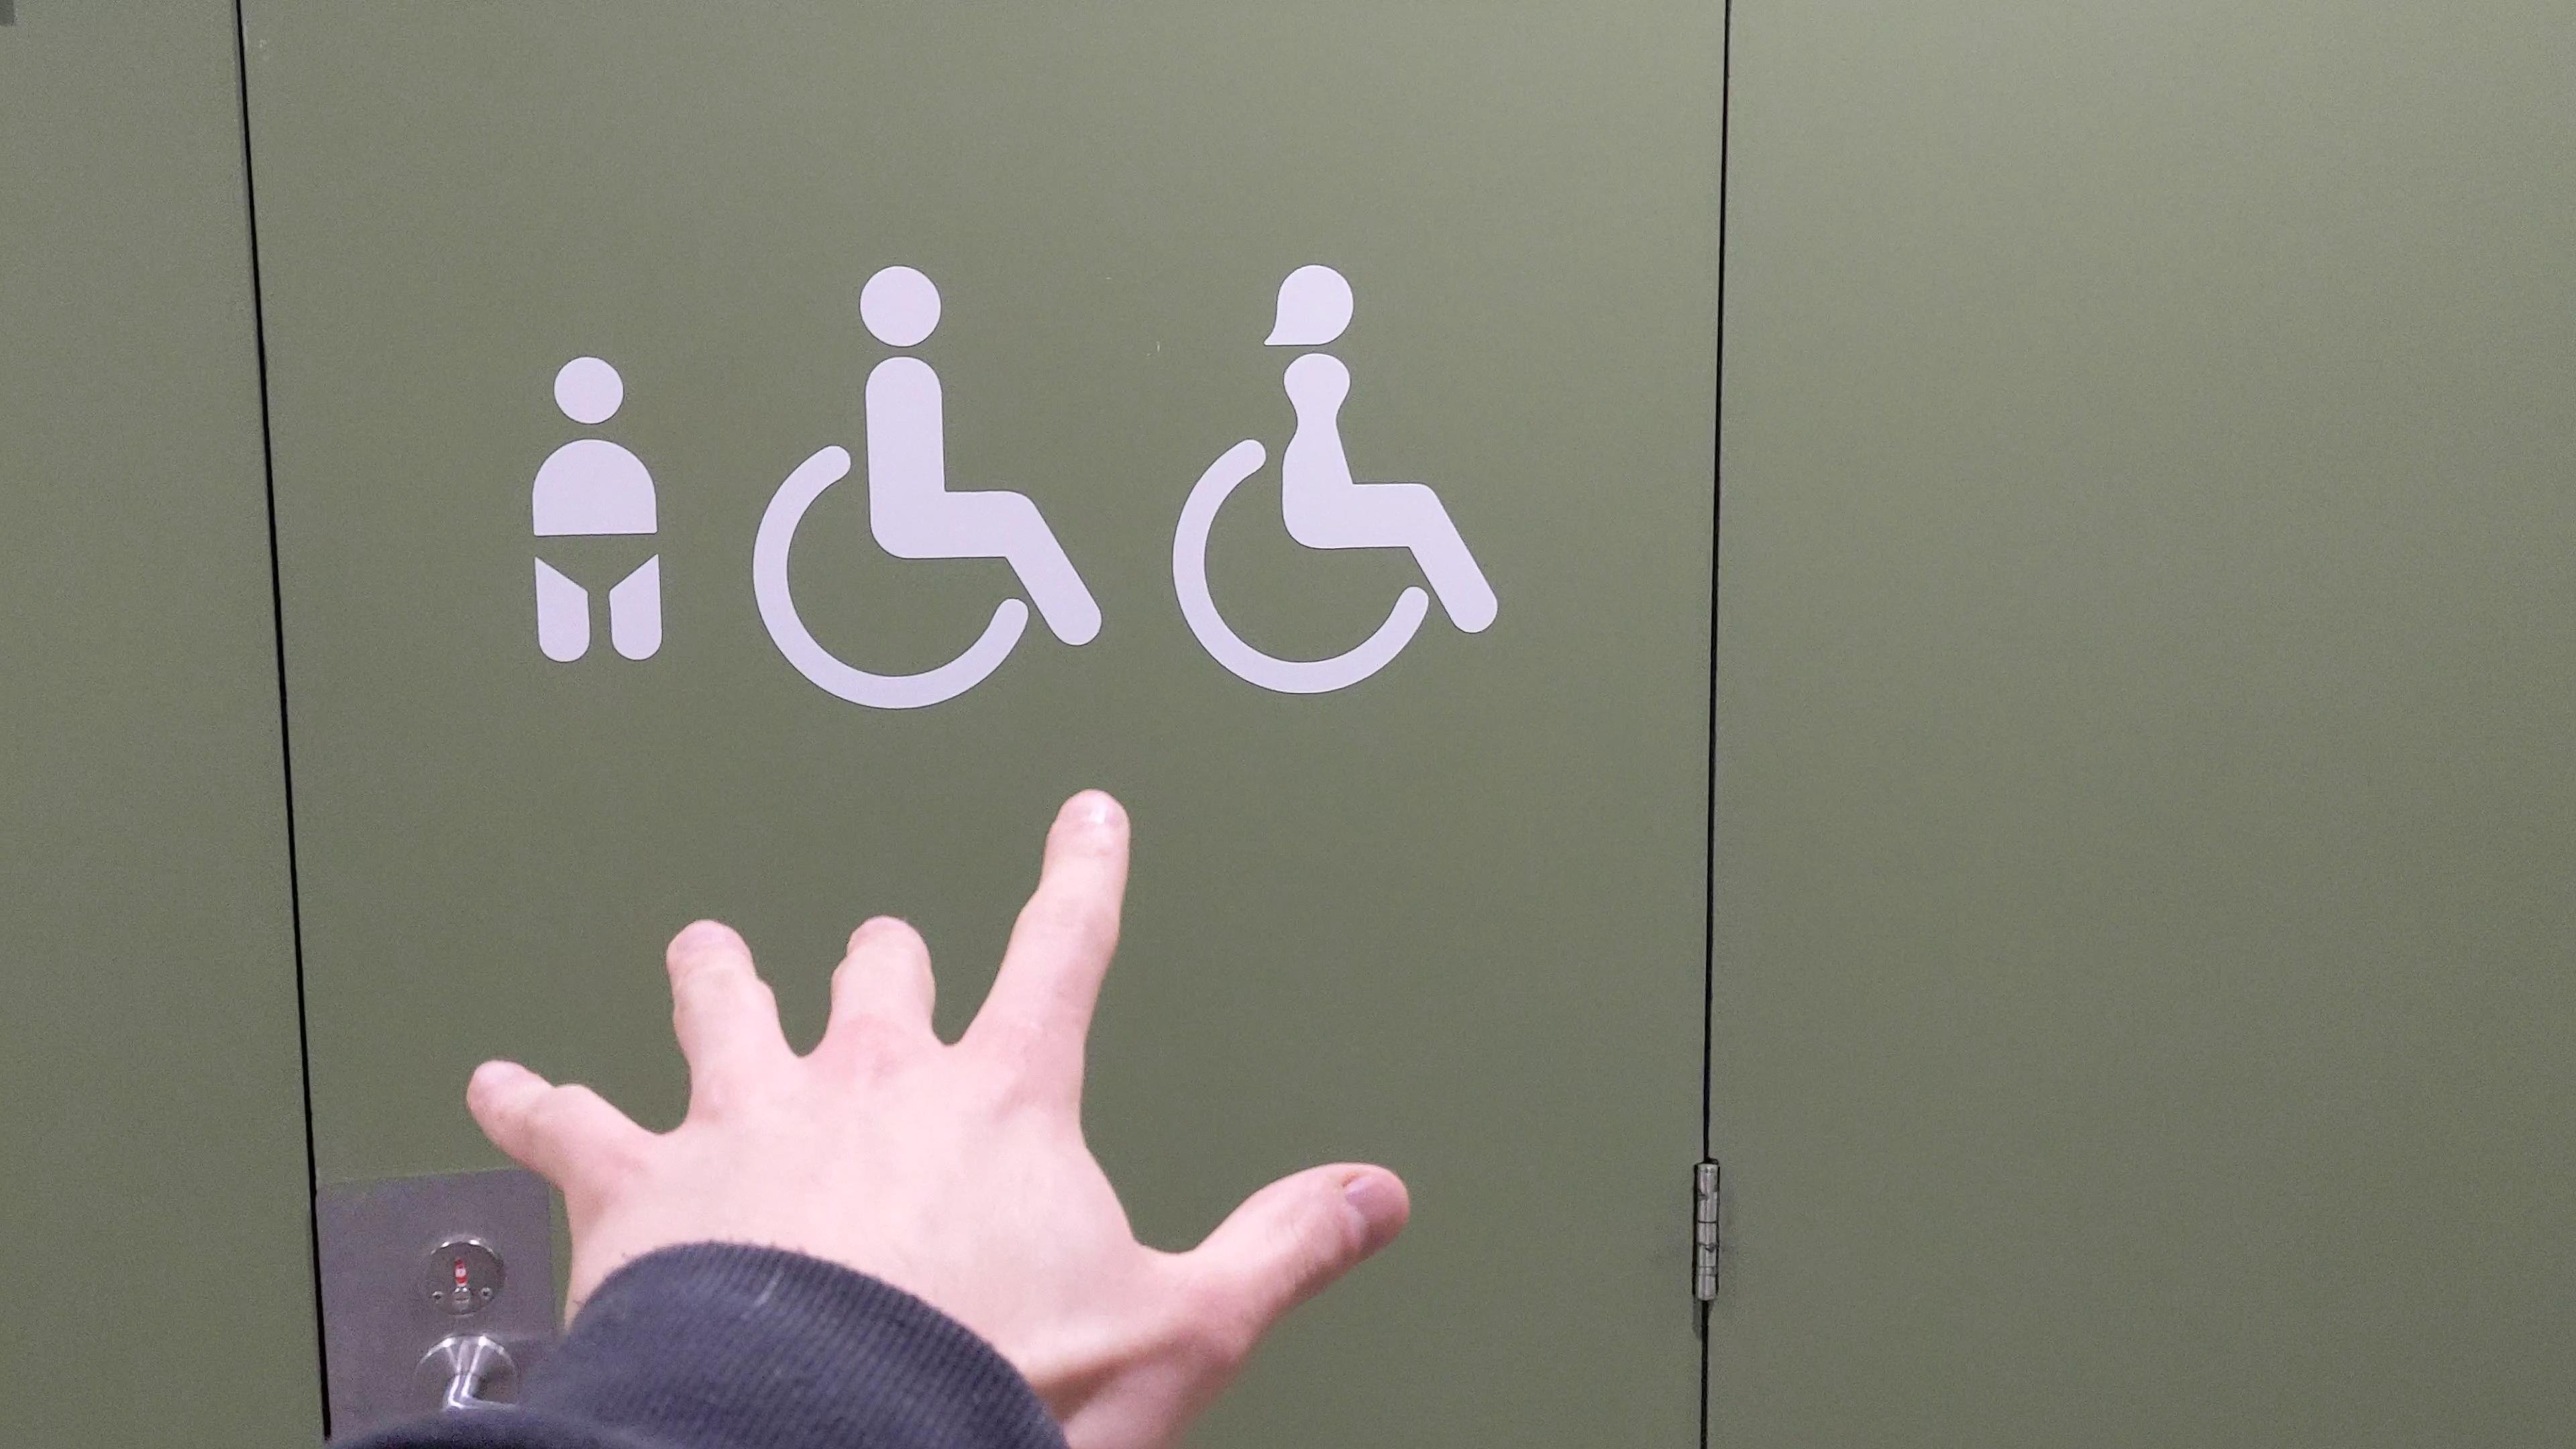handicapped symbol: (750, 260, 1109, 722), (1161, 257, 1509, 720)
